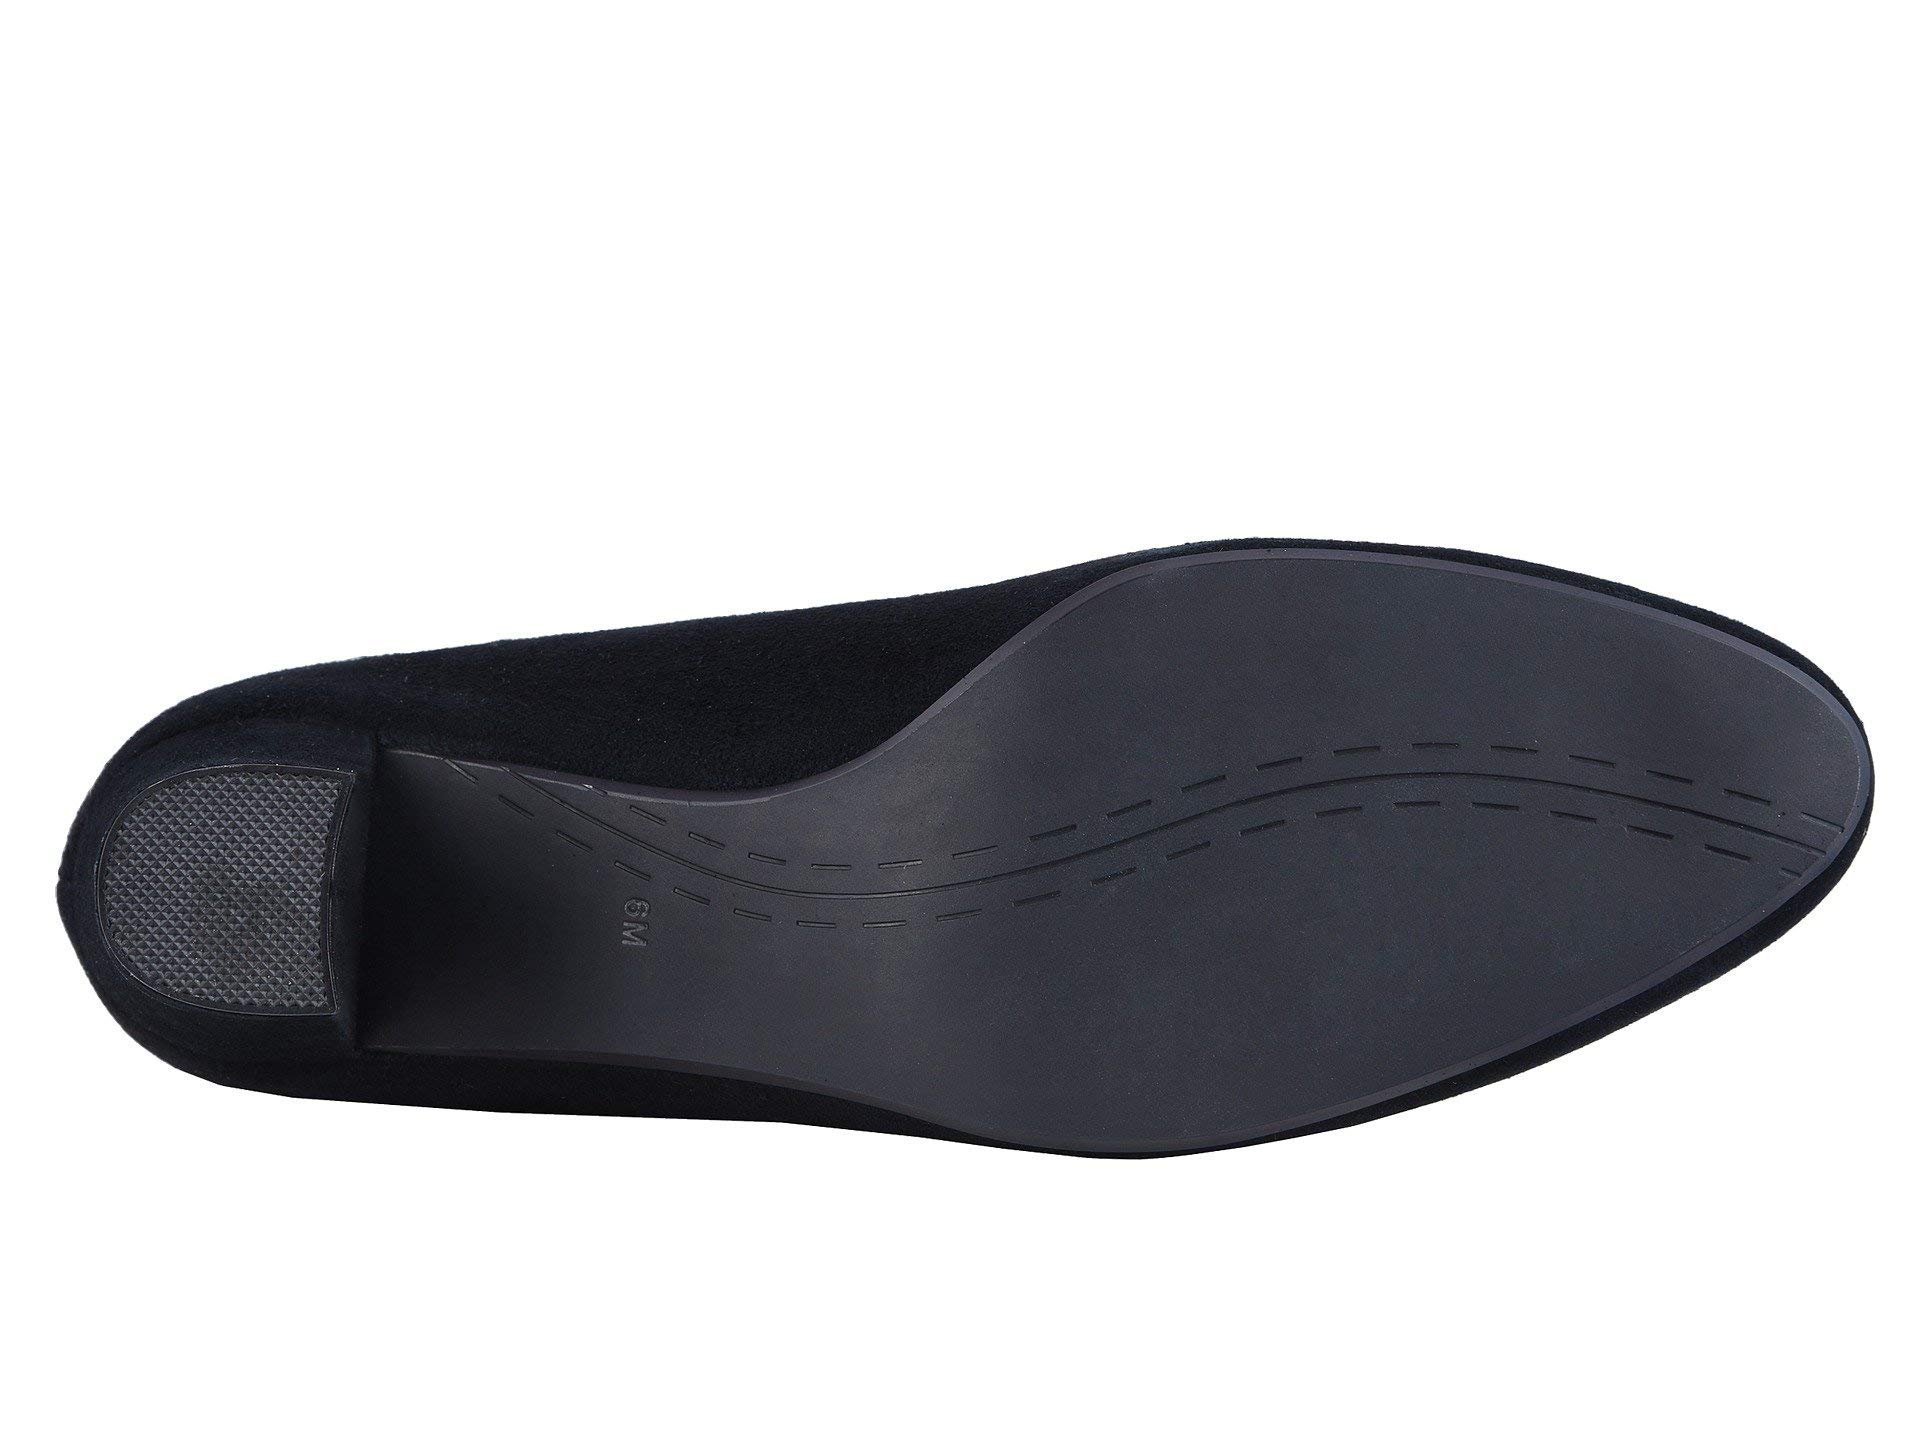line: (945, 663, 1748, 906)
quad: (135, 818, 296, 962)
text: (599, 897, 662, 954)
